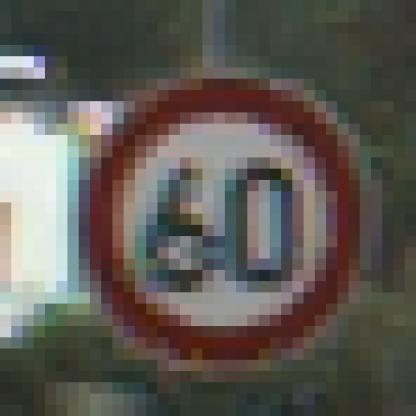Speed Limit 60: (81, 79, 359, 363)
